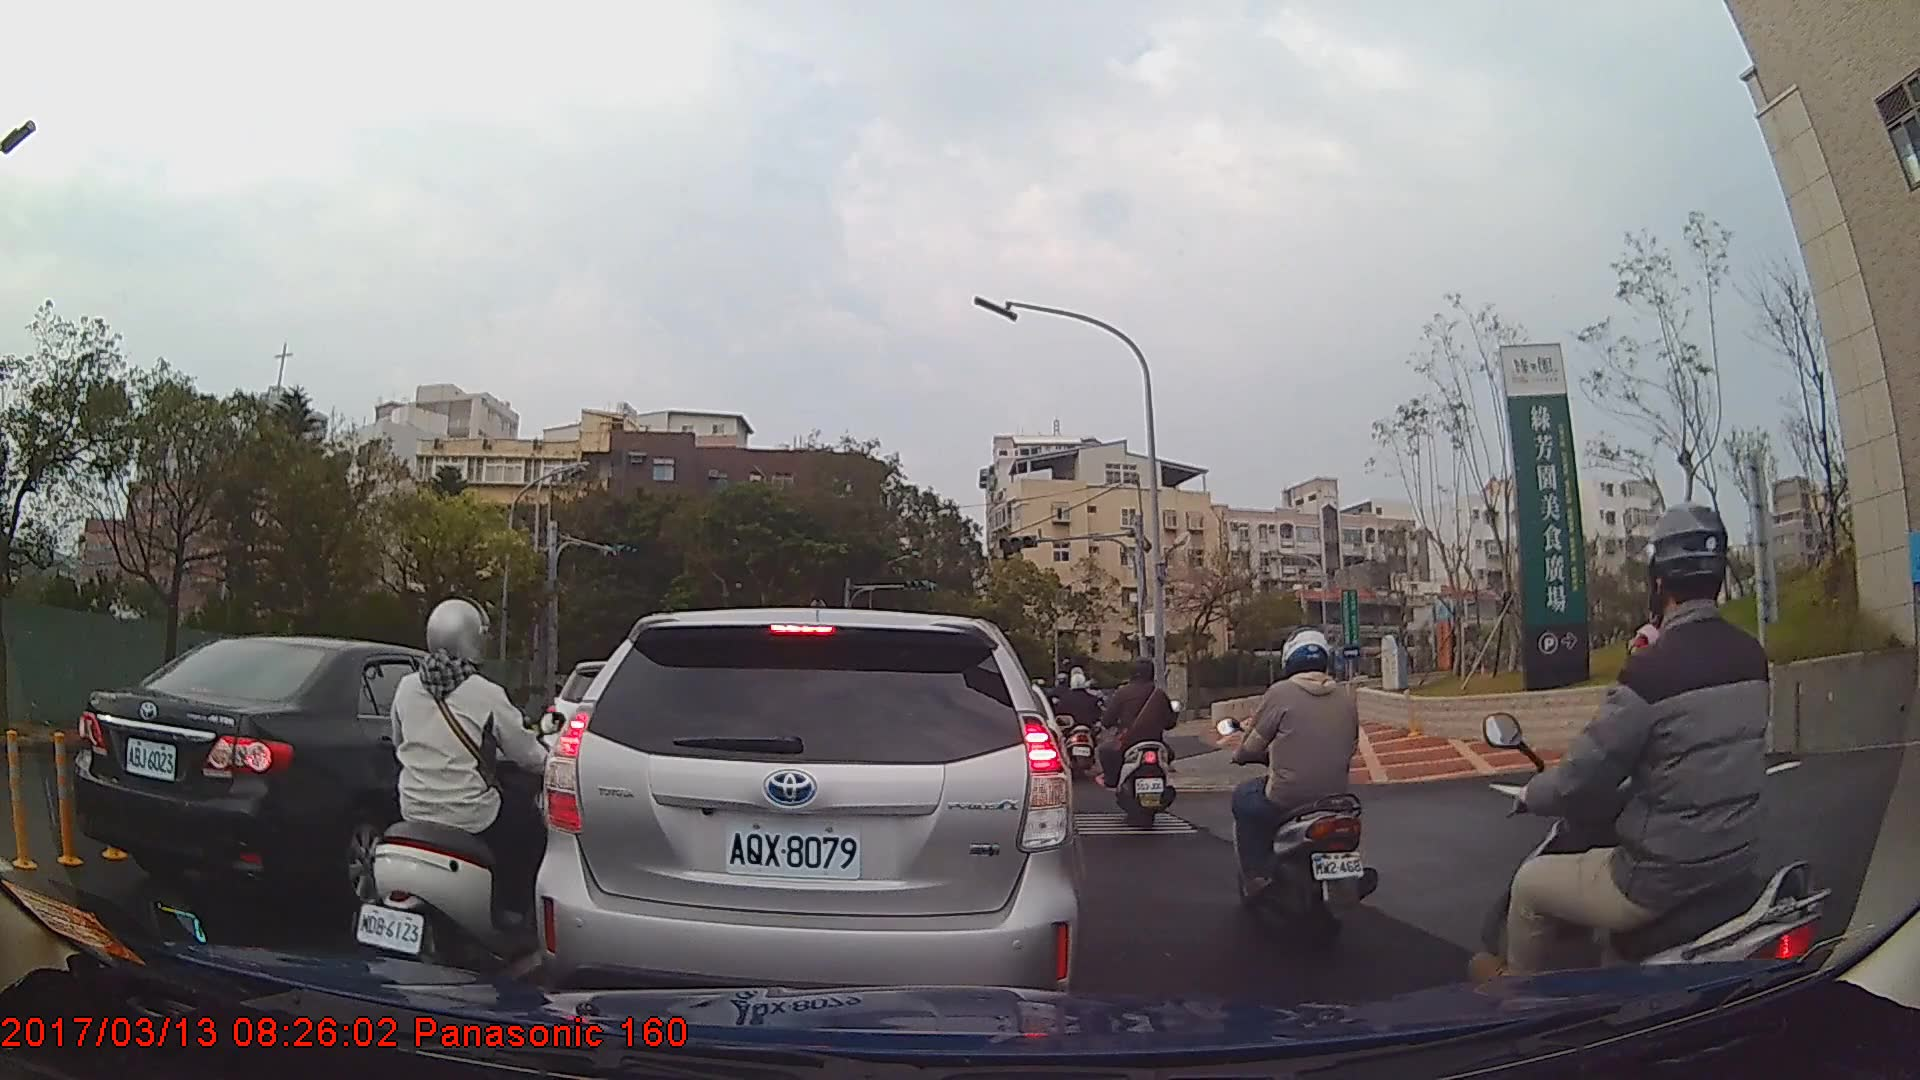rider: (1470, 503, 1842, 1051), (355, 597, 569, 996), (1221, 630, 1370, 942), (1096, 659, 1177, 826), (1065, 668, 1107, 785)
vehicle: (530, 608, 1087, 1017), (70, 634, 559, 919)
